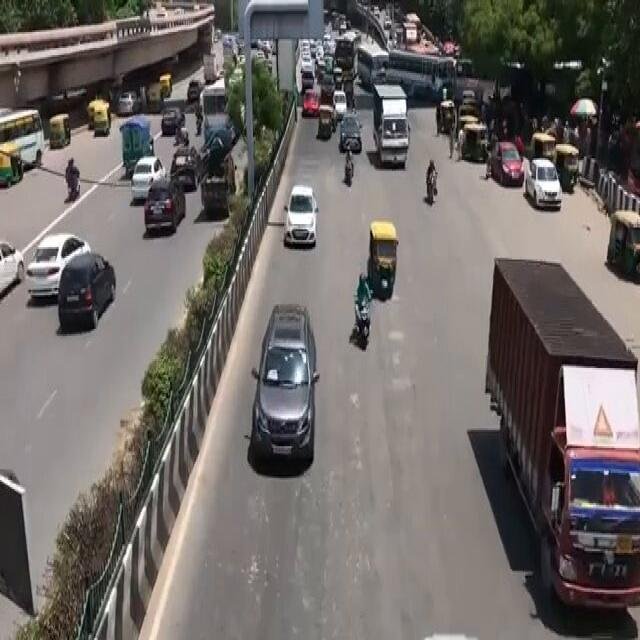three_wheeler: (365, 212, 412, 327)
